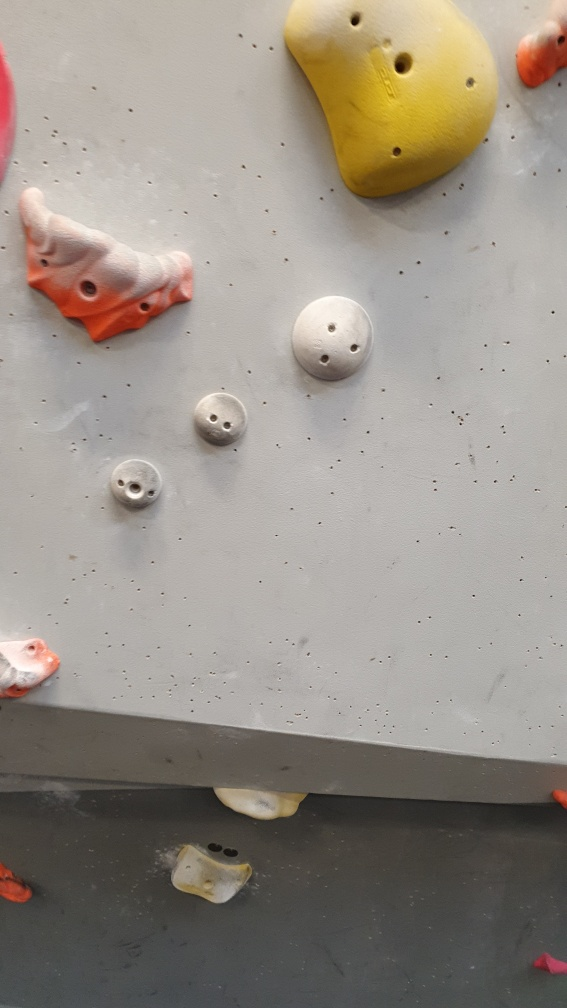Jug: (19, 180, 202, 352)
Sloper: (293, 292, 381, 385), (191, 388, 251, 451), (107, 456, 164, 513)
